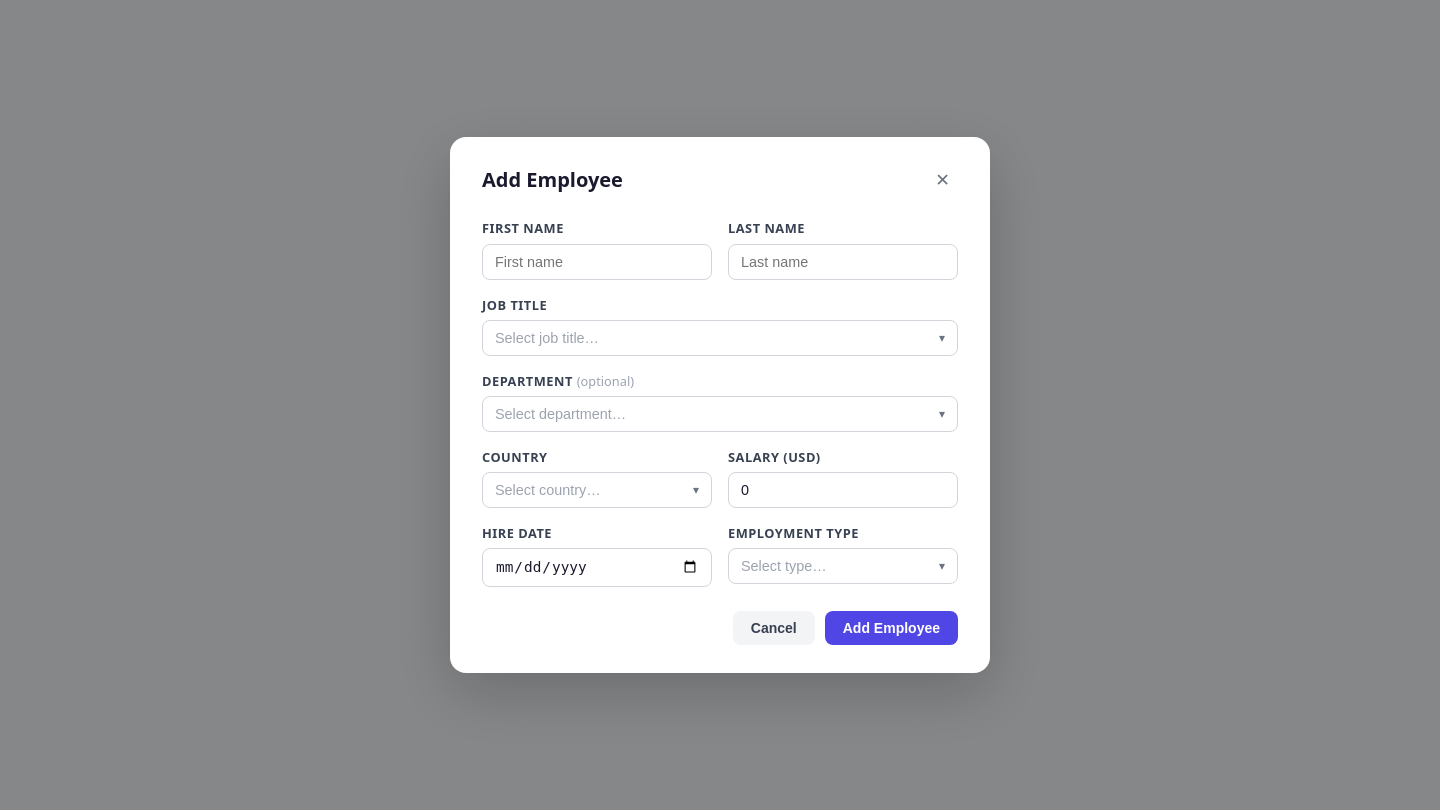
it: AddEmployeeModal › validation › clears a combobox error when a value is selected
Click the button "Add Employee" at (891, 628), box [825,611,958,645]
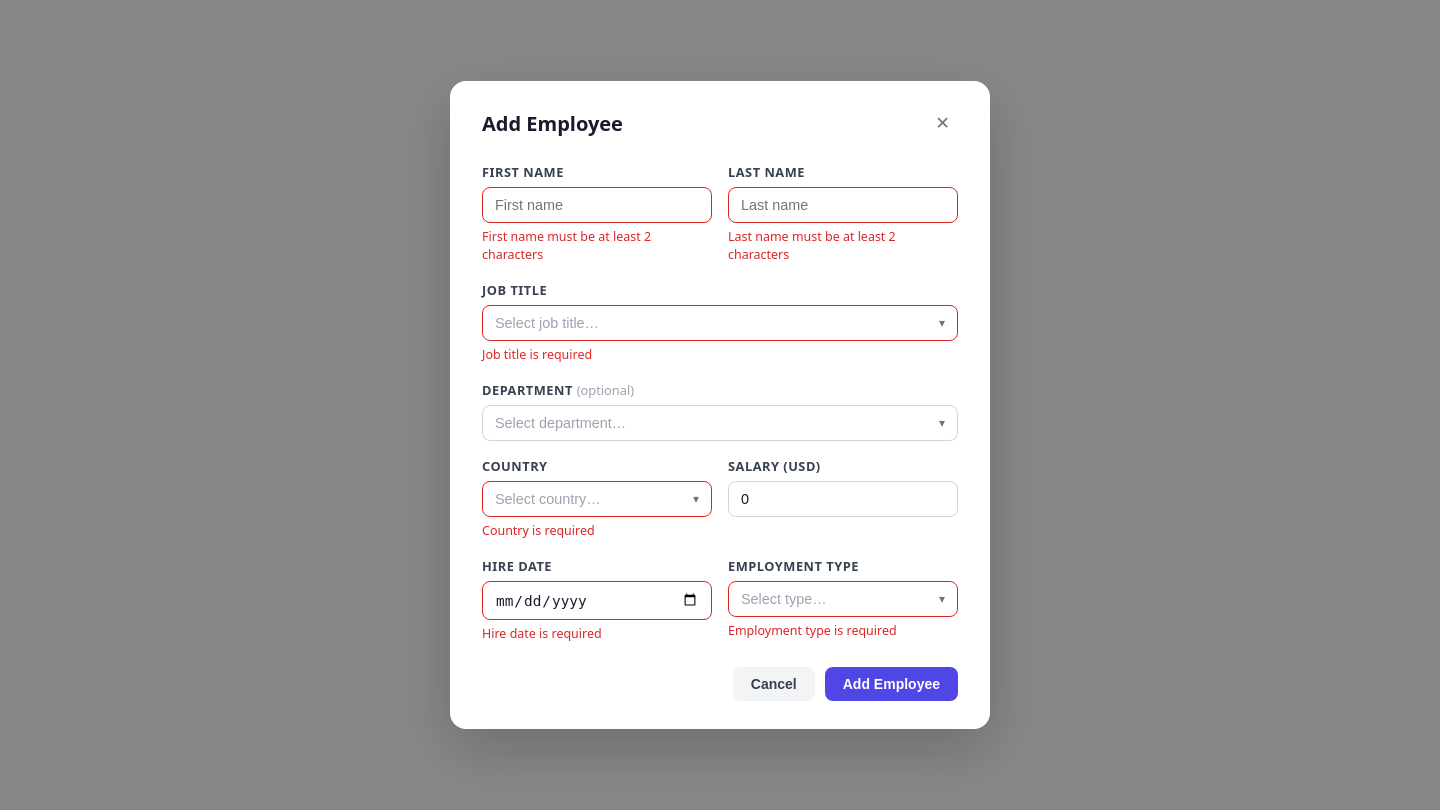
Expected: the text "Job title is required" is shown, [482,346,592,363]
Click the button "Select job title… ▾" at (547, 323), box [482,305,958,341]
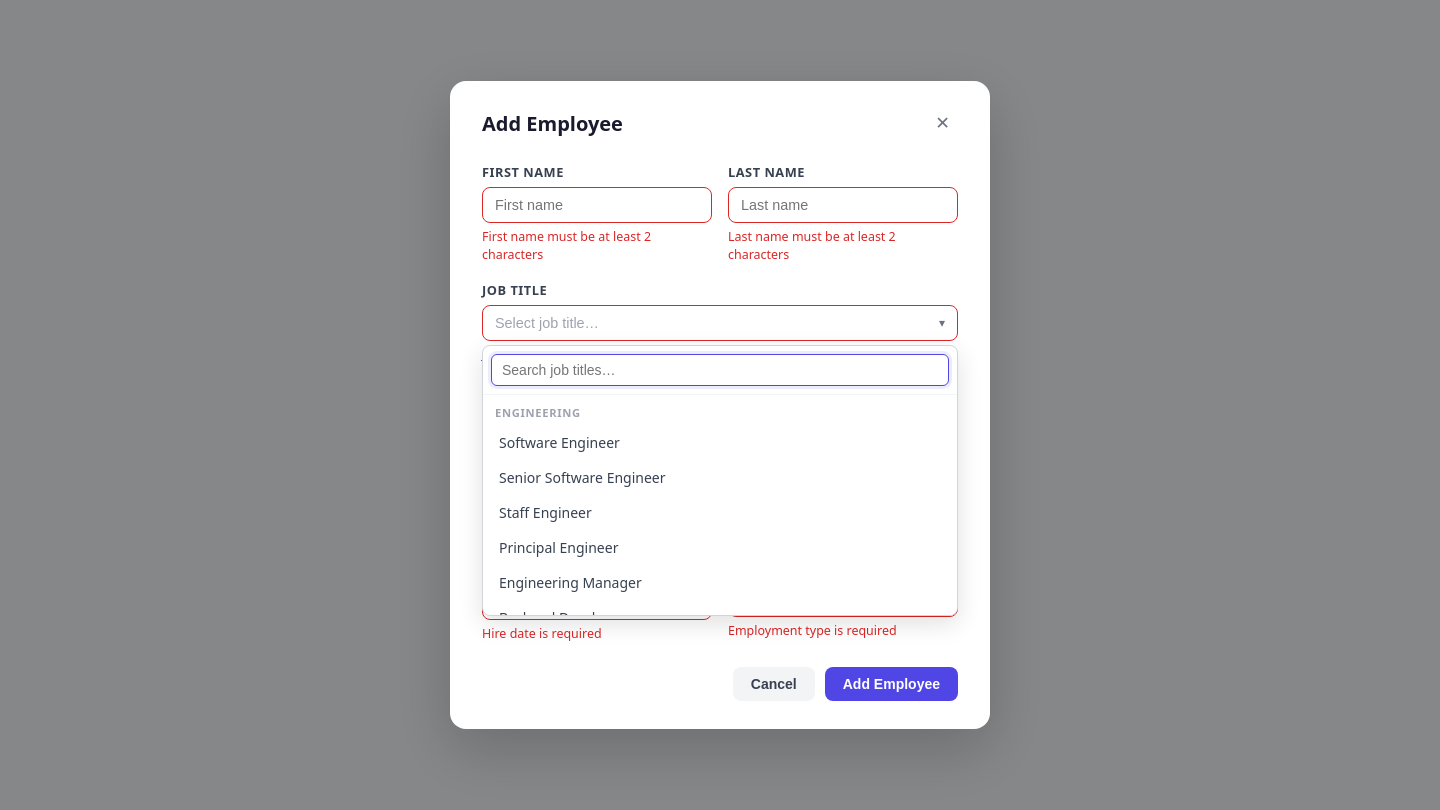
Press the mouse on the option "Software Engineer" at (559, 443), box [499,433,620,452]
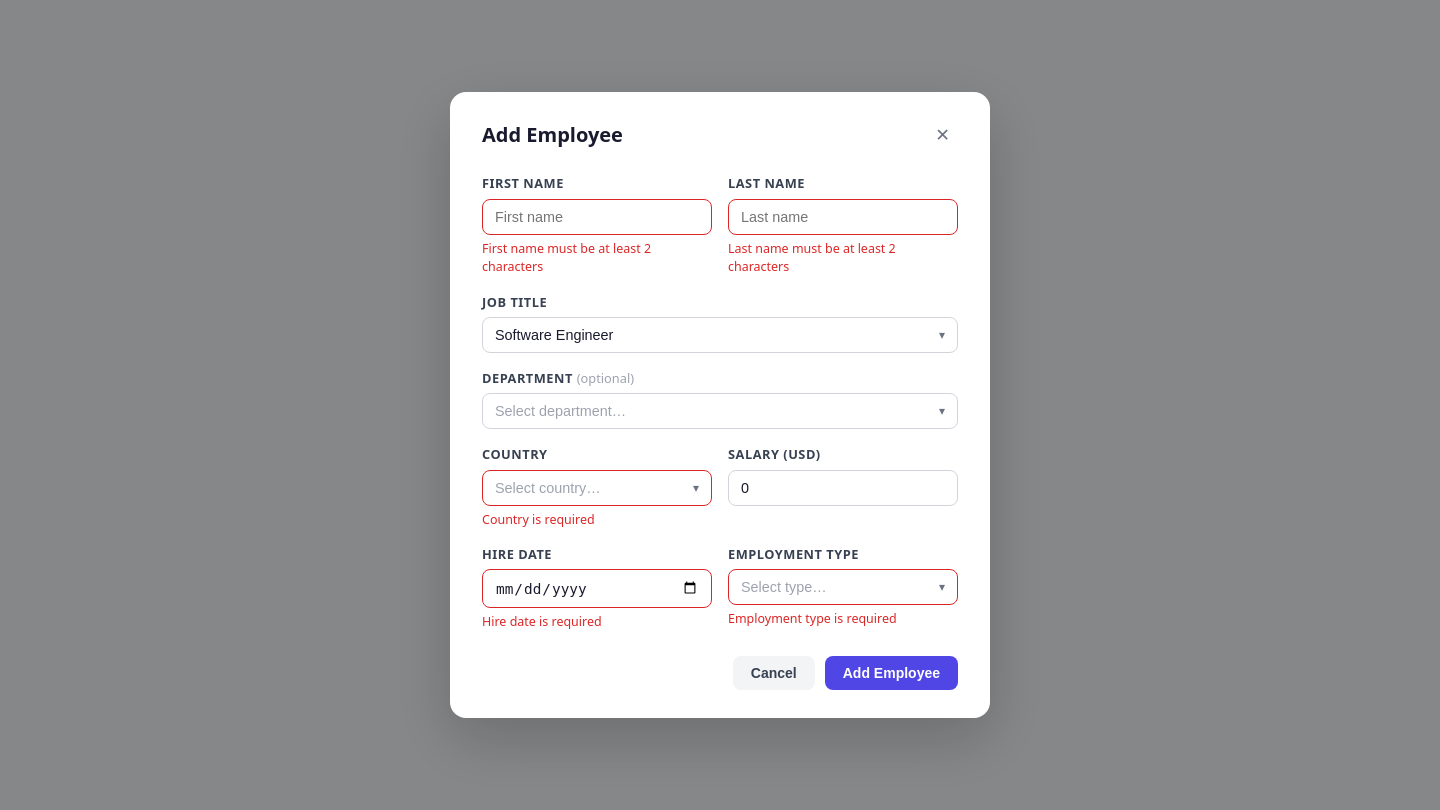
Expected: the text "Job title is required" is gone
